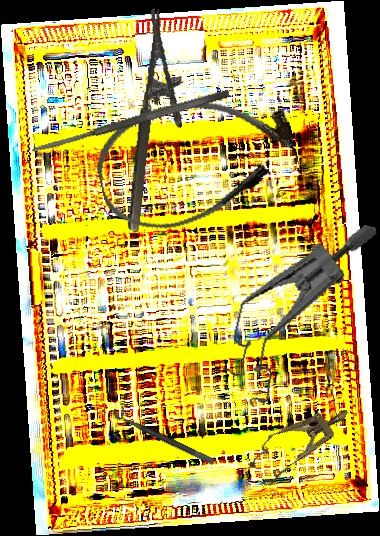Cannula: (87, 80, 307, 242)
Fixation Ring: (110, 401, 220, 466)
Needle Holder: (124, 7, 196, 236)
Spatula Surgical: (30, 87, 231, 156)
Speculum: (215, 201, 379, 425), (241, 392, 360, 492)
